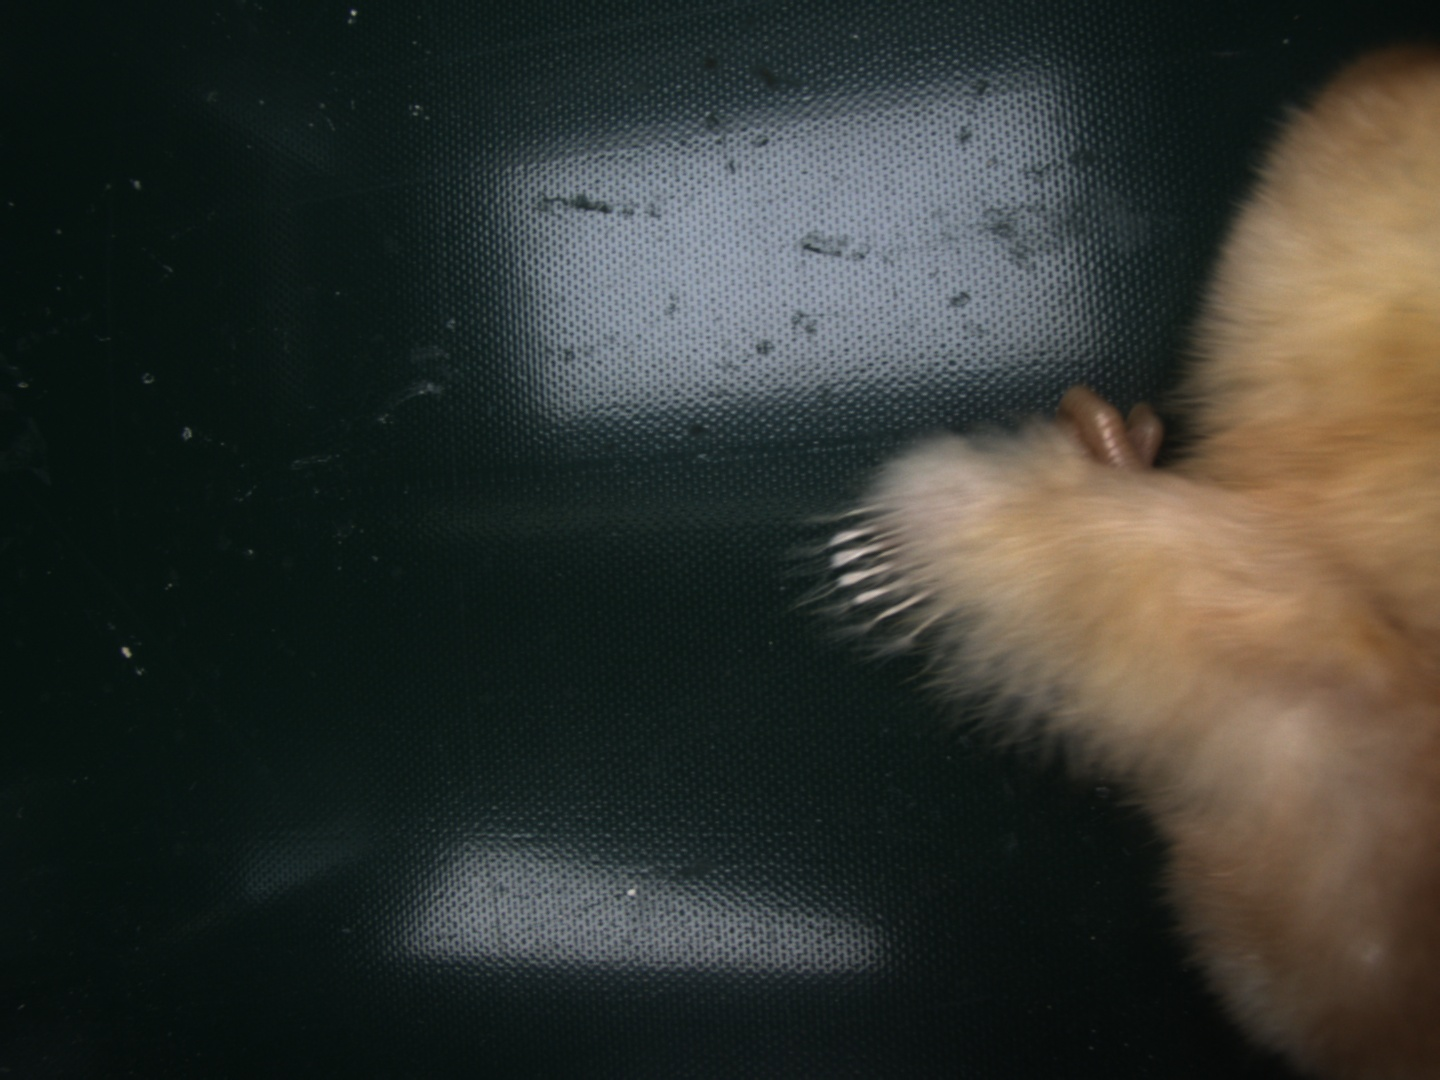female: (822, 503, 949, 647)
